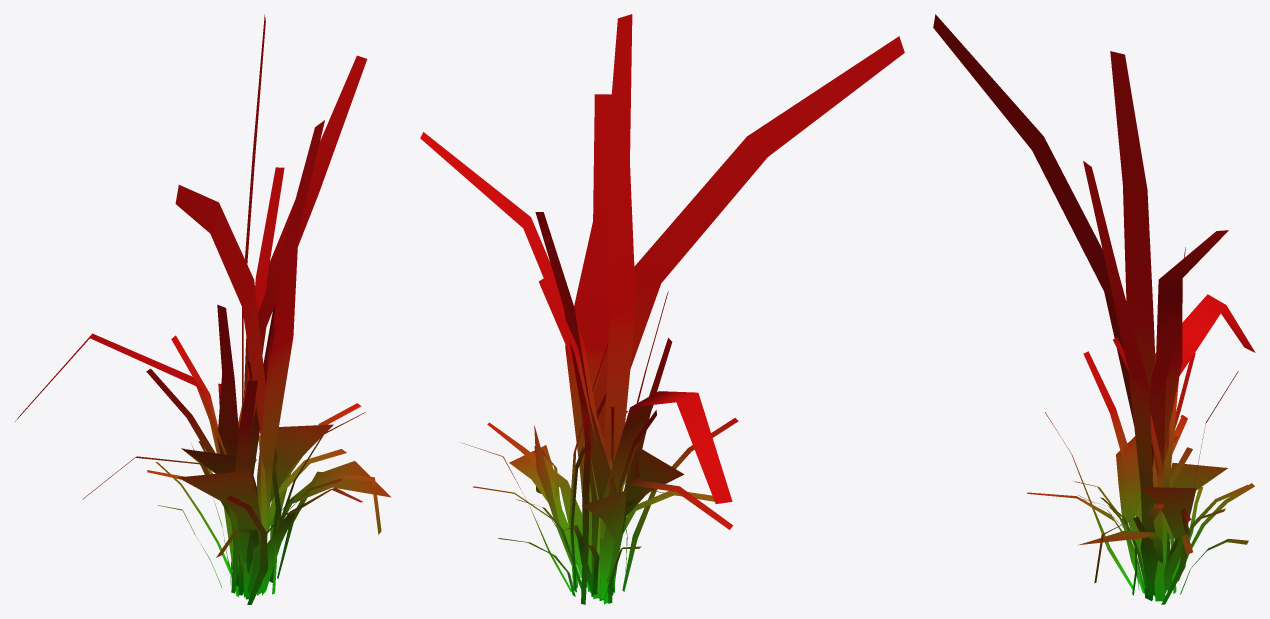
File: Var1_LOD2.fbx
3 renders of one model, left to right at view 1: azimuth 30°, elevation 25°; view 2: azimuth 150°, elevation 25°; view 3: azimuth 270°, elevation 25°, orthographic. The views are drawn at different scales.
Visible parts, largest first — view 1: _a37d_Var1_LOD2; view 2: _a37d_Var1_LOD2; view 3: _a37d_Var1_LOD2.
Part boxes in pixels (x1,y1,x2,y2): _a37d_Var1_LOD2: [15, 14, 391, 604]; _a37d_Var1_LOD2: [420, 14, 904, 604]; _a37d_Var1_LOD2: [933, 14, 1255, 604].
Bounding box in the file's own units: 42.35 × 69.35 × 37.37.
